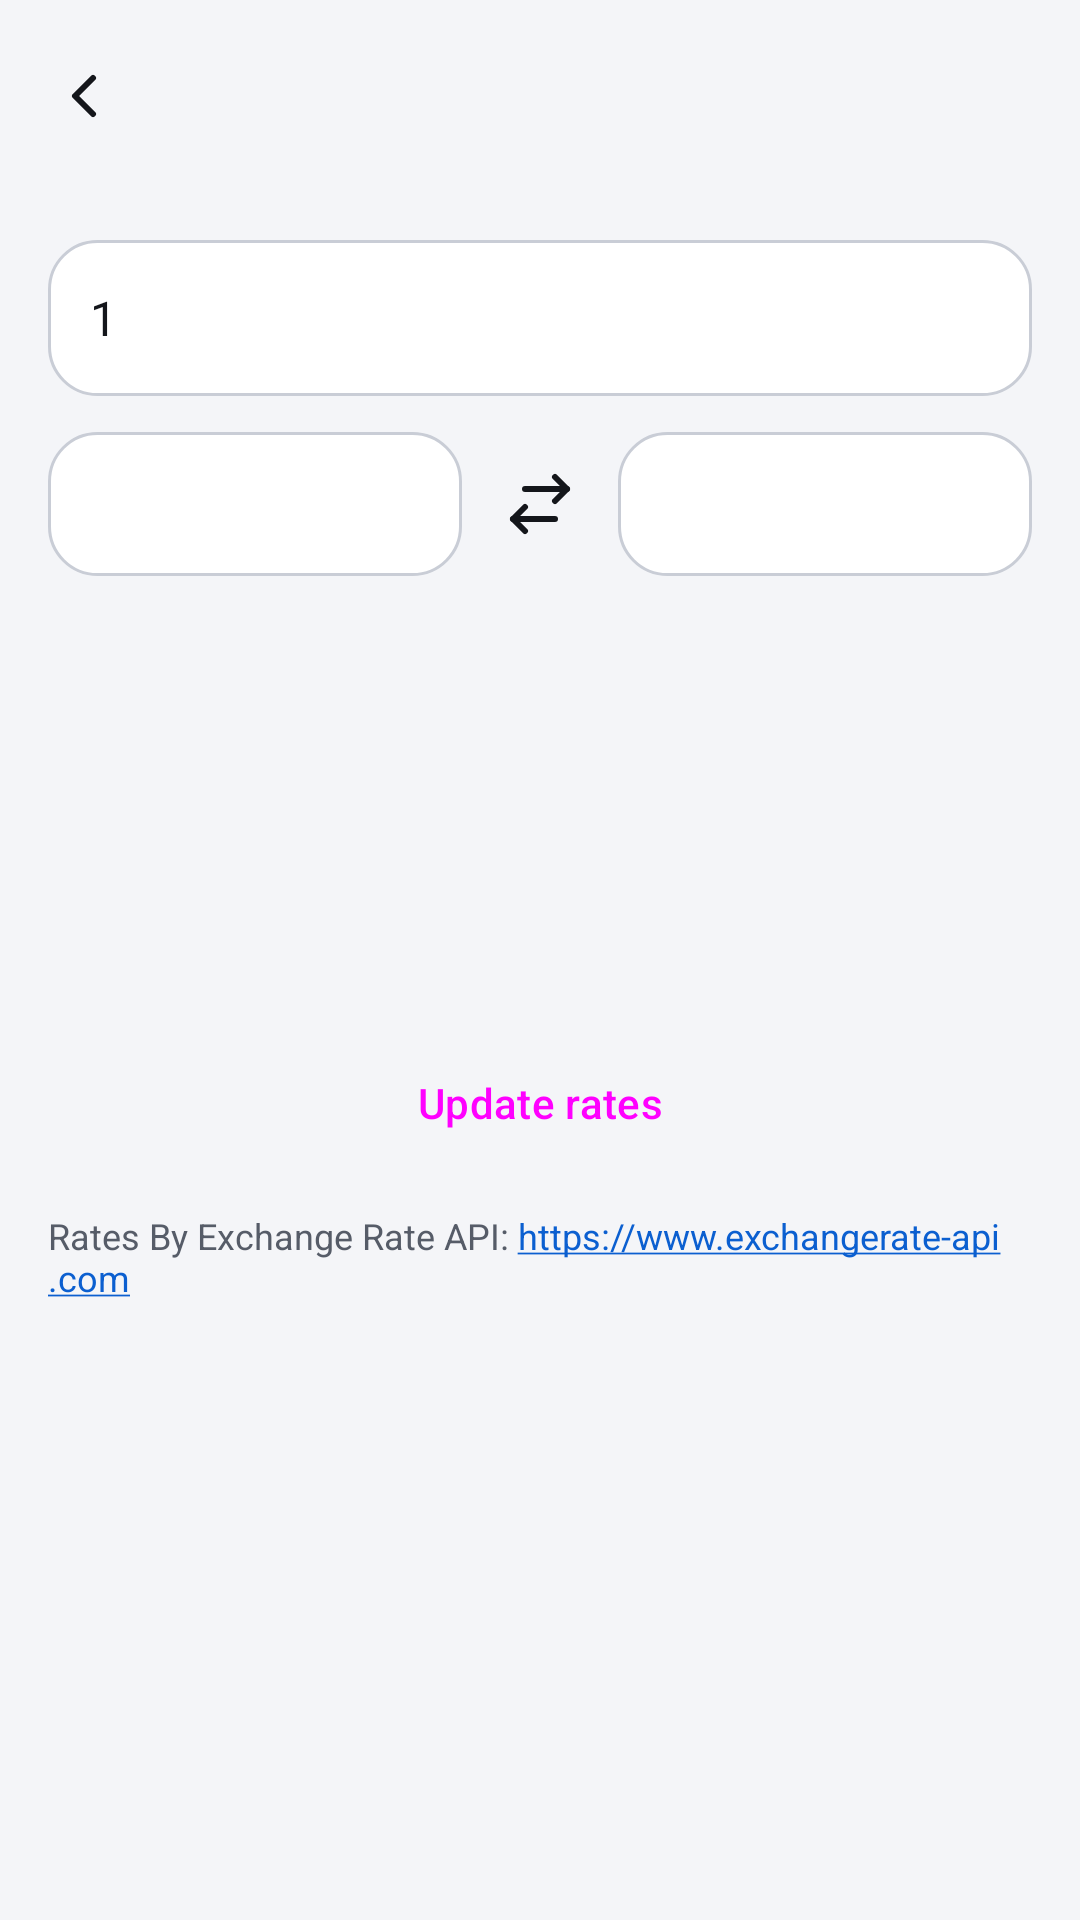

Locate icon controls on the screen. Image size 1080×1920, boxes as (x1, y1, x2, y2).
Swap languages: (510, 474, 570, 534)
